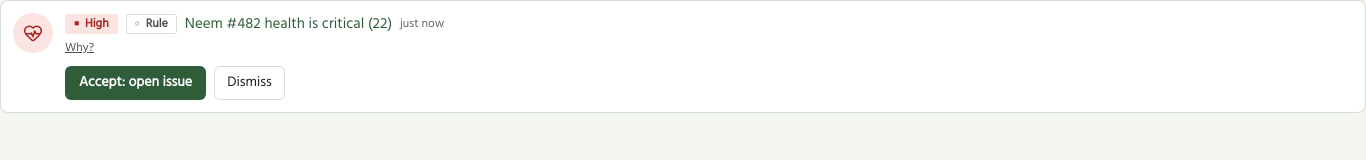
Test: RecommendationCard › posts the acceptance and surfaces a server problem
Click the button "Accept: open issue": (136,83) [65, 66, 206, 100]
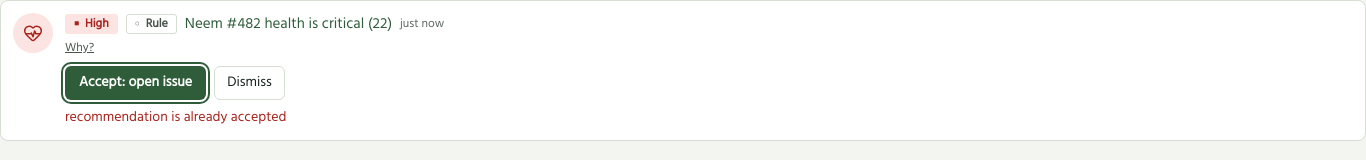
expect the message shows "already accepted": met, box [65, 106, 287, 129]
